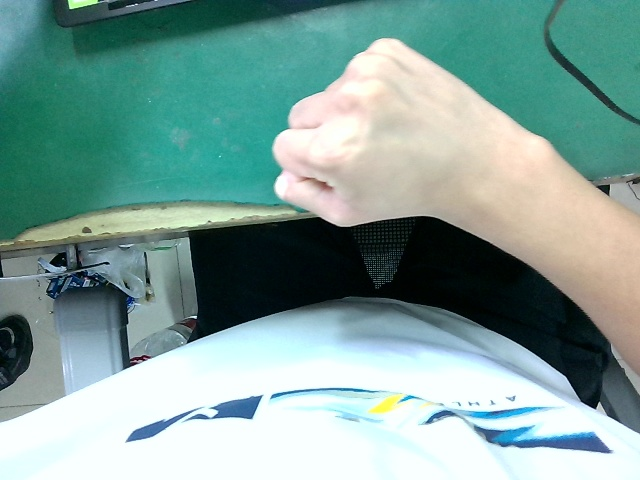stone: (264, 24, 540, 289)
